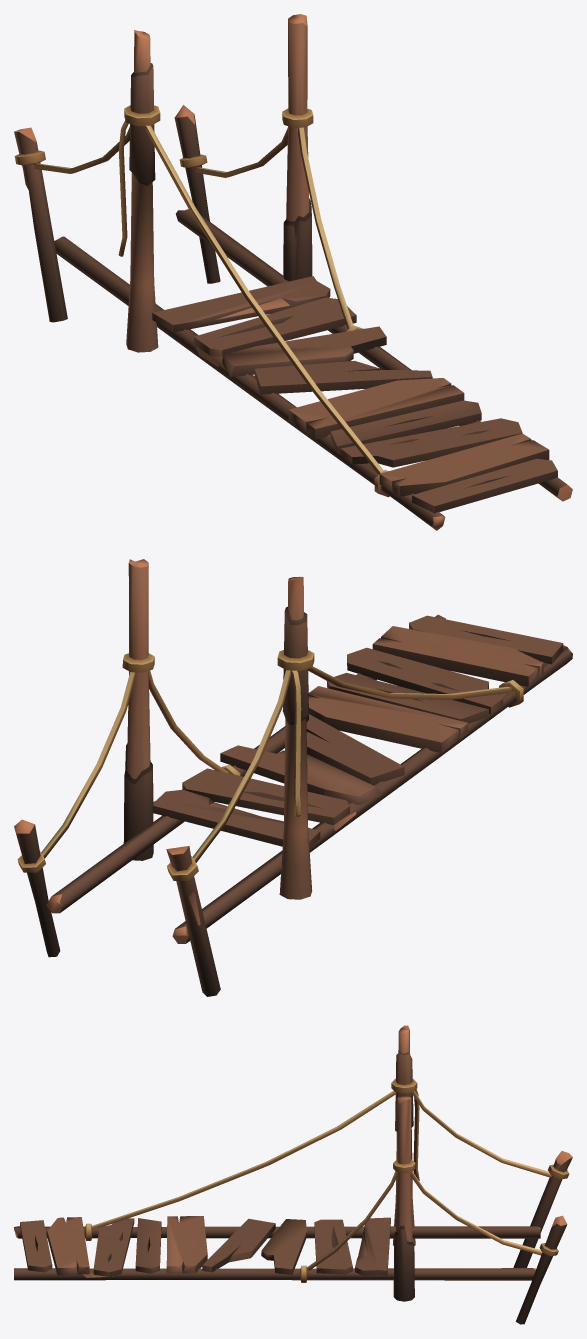
The model's file is Suspended_Bridge_2A.fbx.
3 views of the same model, one above another, from view 1: azimuth 30°, elevation 25°; view 2: azimuth 150°, elevation 25°; view 3: azimuth 270°, elevation 25° (orthographic). The views are drawn at different scales.
Visible parts, largest first — view 1: Suspended_Bridge_2A; view 2: Suspended_Bridge_2A; view 3: Suspended_Bridge_2A.
Part boxes in pixels (left/top/right/bottom): Suspended_Bridge_2A: left=14, top=14, right=572, bottom=530; Suspended_Bridge_2A: left=14, top=559, right=572, bottom=996; Suspended_Bridge_2A: left=14, top=1025, right=572, bottom=1324.
Size of the model in its own units: 239 by 435 by 902.
